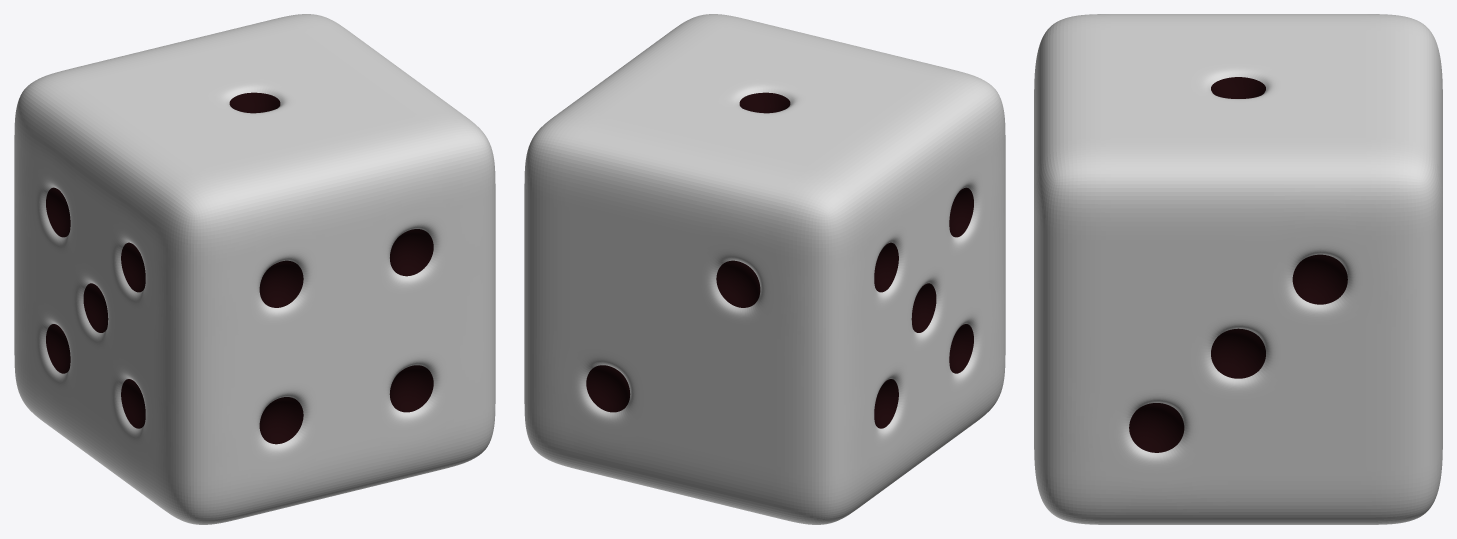
The model's file is Dice.fbx.
The picture shows the model from 3 angles, left to right: view 1: azimuth 30°, elevation 25°; view 2: azimuth 150°, elevation 25°; view 3: azimuth 270°, elevation 25°; orthographic projection. The views are drawn at different scales.
Visible parts, largest first — view 1: Cube; view 2: Cube; view 3: Cube.
Boxes of the visible parts, x1=… form: Cube: x1=14, y1=14, x2=495, y2=524; Cube: x1=524, y1=14, x2=1005, y2=524; Cube: x1=1034, y1=14, x2=1442, y2=524.
Bounding box in the file's own units: 200 × 200 × 200.
